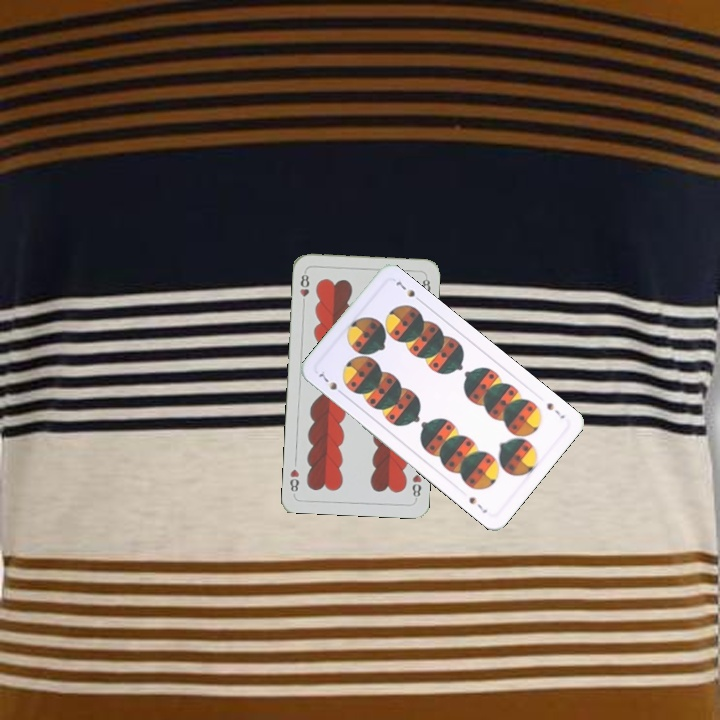H8: (296, 268, 312, 308), (408, 470, 424, 502)
S7: (313, 367, 347, 398), (542, 399, 568, 421)
